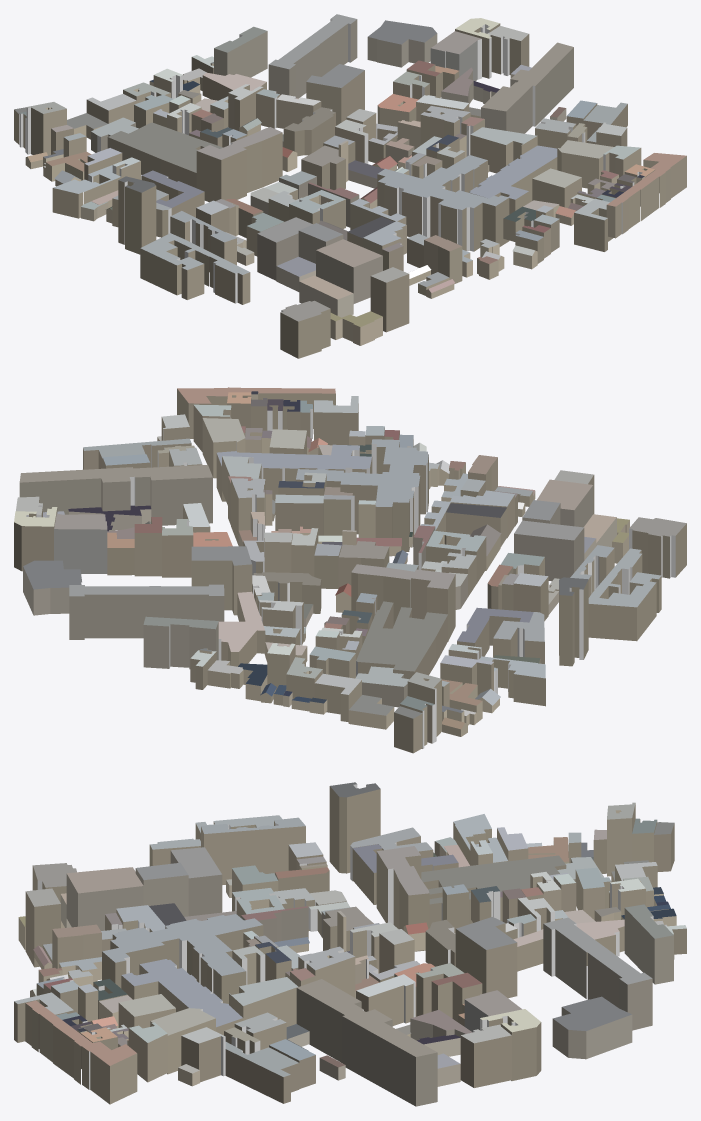
3 renders of one model, top to bottom at view 1: azimuth 30°, elevation 25°; view 2: azimuth 150°, elevation 25°; view 3: azimuth 270°, elevation 25°, orthographic. The views are drawn at different scales.
Visible parts, largest first — view 1: tuile; view 2: tuile; view 3: tuile.
Boxes of the visible parts, x1,y1,x2,y2 form: tuile: (14,14,686,358); tuile: (14,387,686,753); tuile: (14,782,686,1106).
Size of the model in its own units: 277 by 50.71 by 269.
